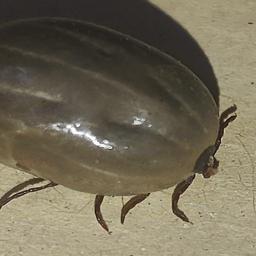Rhipicephalus sanguineus: (0, 19, 238, 230)
